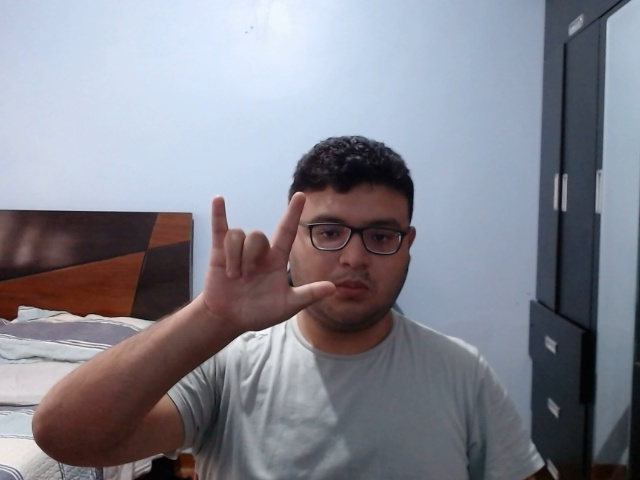I love you: (179, 180, 341, 342)
